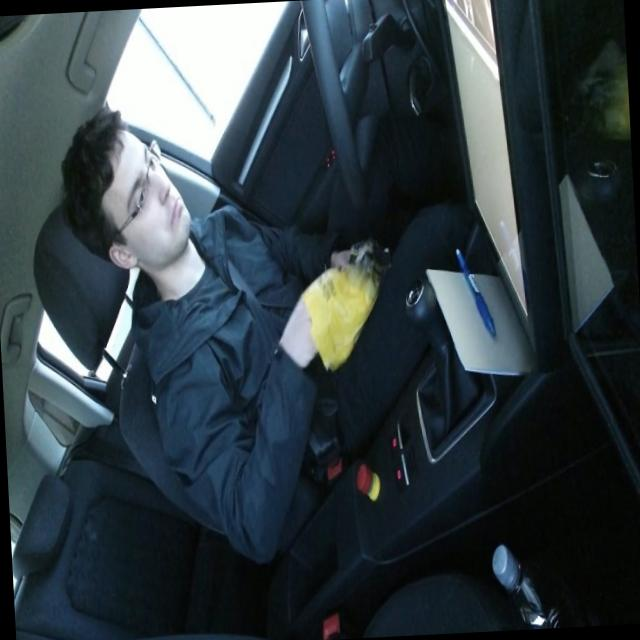pen: (454, 244, 496, 340)
